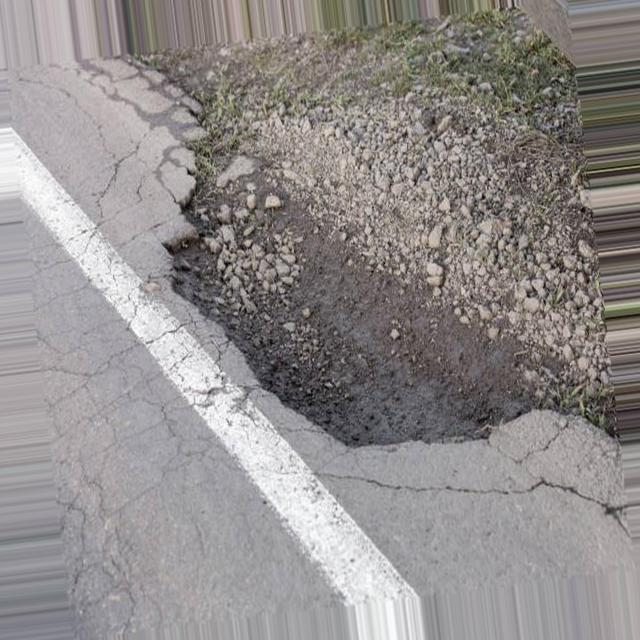Pinggir: (166, 119, 584, 458)
